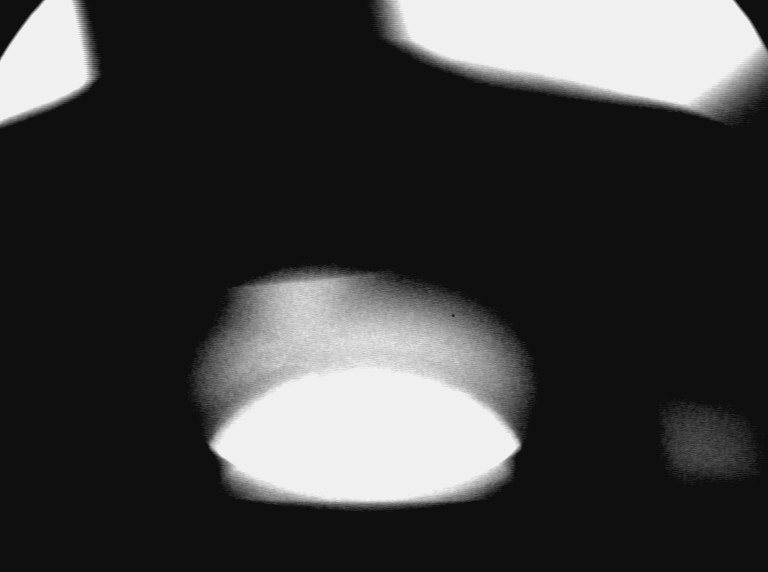defect: (165, 333, 302, 413)
